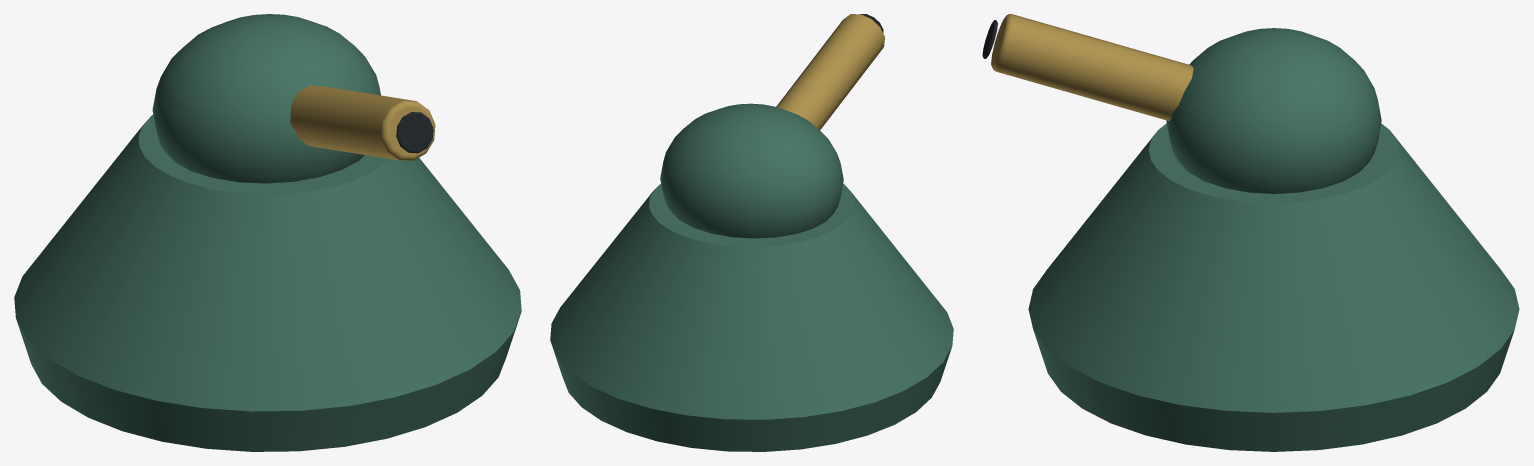
The picture shows the model from 3 angles, left to right: view 1: azimuth 30°, elevation 25°; view 2: azimuth 150°, elevation 25°; view 3: azimuth 270°, elevation 25°; orthographic projection. The views are drawn at different scales.
Parts seen in each view (by area): view 1: Turret armoured pedestal, Weapon pivot, Weapon barrel, Weapon dark bore; view 2: Turret armoured pedestal, Weapon pivot, Weapon barrel; view 3: Turret armoured pedestal, Weapon pivot, Weapon barrel.
Part boxes in pixels (box(x1,y1,x2,y2)): Turret armoured pedestal: box(14, 114, 521, 451); Weapon pivot: box(152, 14, 380, 183); Weapon barrel: box(290, 85, 435, 160); Weapon dark bore: box(396, 112, 433, 153); Turret armoured pedestal: box(550, 183, 953, 451); Weapon pivot: box(660, 103, 843, 238); Weapon barrel: box(776, 14, 884, 130); Turret armoured pedestal: box(1028, 123, 1519, 451); Weapon pivot: box(1166, 28, 1381, 193); Weapon barrel: box(991, 14, 1193, 120).
Size of the model in its own units: 1.96 by 1.49 by 2.14.
